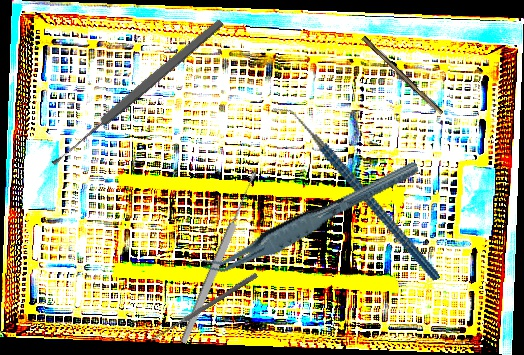Chopper: (271, 74, 441, 313)
Scalpel Handle: (359, 35, 445, 117)
Surgical Spoon: (48, 16, 226, 169), (178, 170, 261, 345), (150, 271, 259, 343)
Tissue Forceps: (192, 158, 430, 281)
